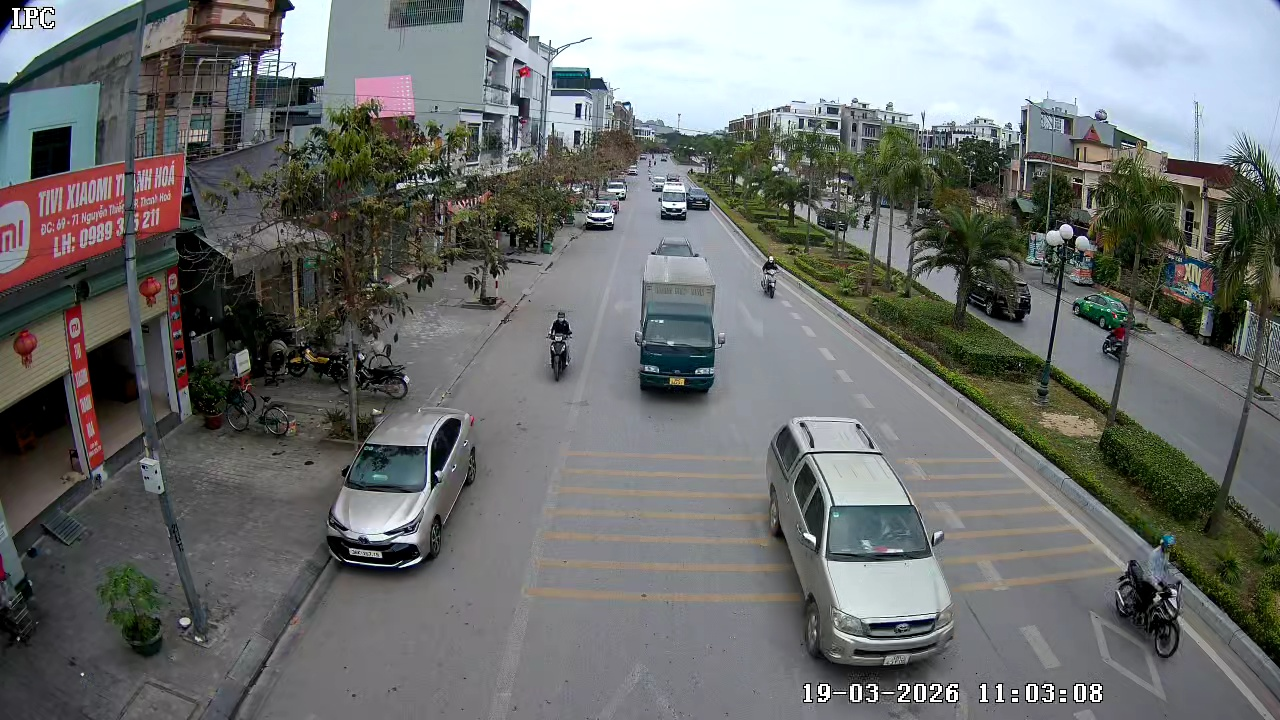car: (766, 415, 957, 667), (325, 405, 478, 571), (657, 181, 689, 223), (583, 199, 618, 231), (686, 187, 713, 213)
motorbike: (1113, 532, 1186, 658), (354, 337, 411, 399), (544, 309, 575, 383), (759, 255, 780, 299)
truck: (634, 237, 728, 397)
